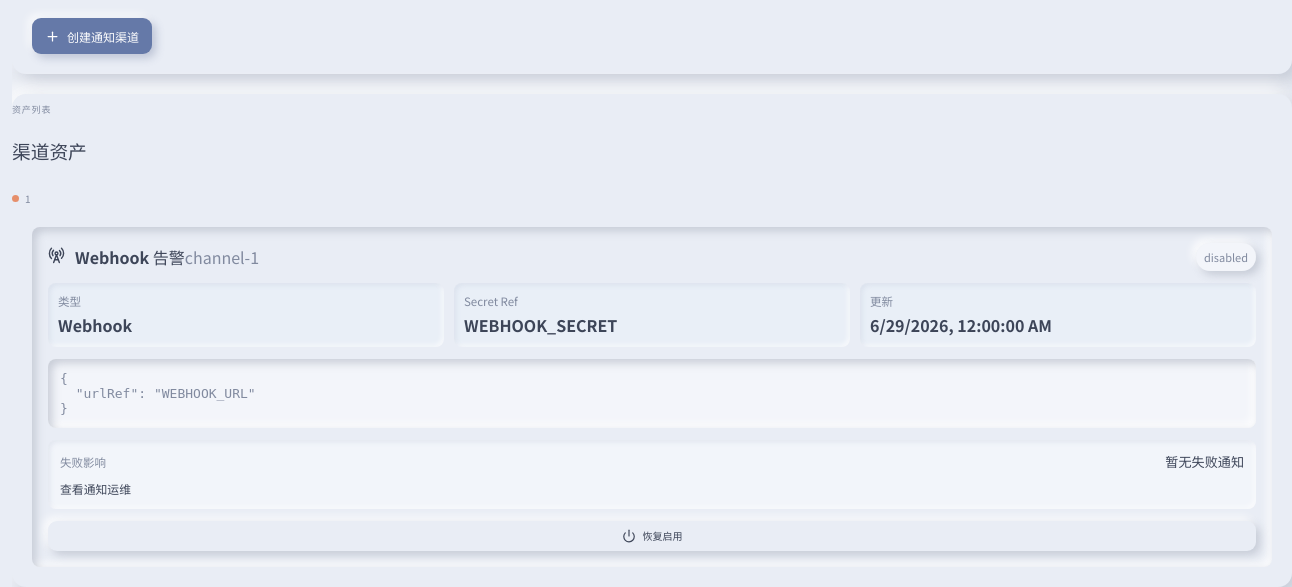
Scenario: NotificationChannels page › enables disabled channels and restores the disable action
(page scrolled)
Check: the text "Webhook 告警" is shown, box x1=75 y1=245 x2=185 y2=269
What coordinates should you click on to do the following:
click the button with aria-label "恢复启用 Webhook 告警"
I would click on:
 (652, 536)
Its box is x1=48 y1=521 x2=1256 y2=551.
(page scrolled)
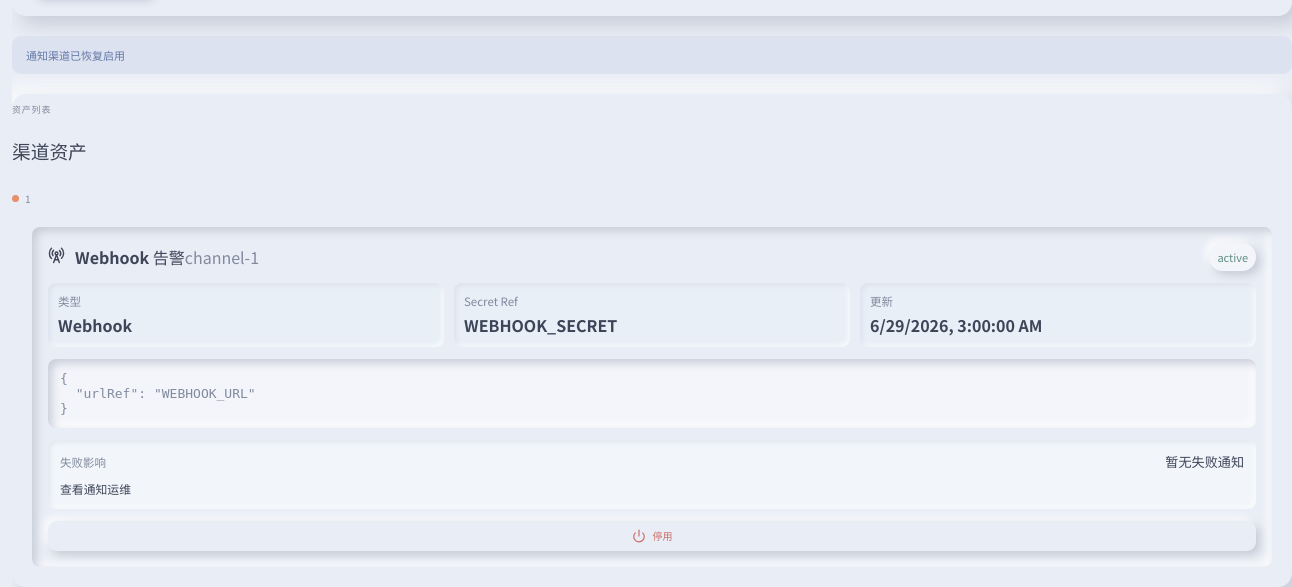
Check: the text "active" is shown, box x1=1209 y1=243 x2=1256 y2=271
Check: the button with aria-label "停用 Webhook 告警" is shown, box x1=48 y1=521 x2=1256 y2=551
